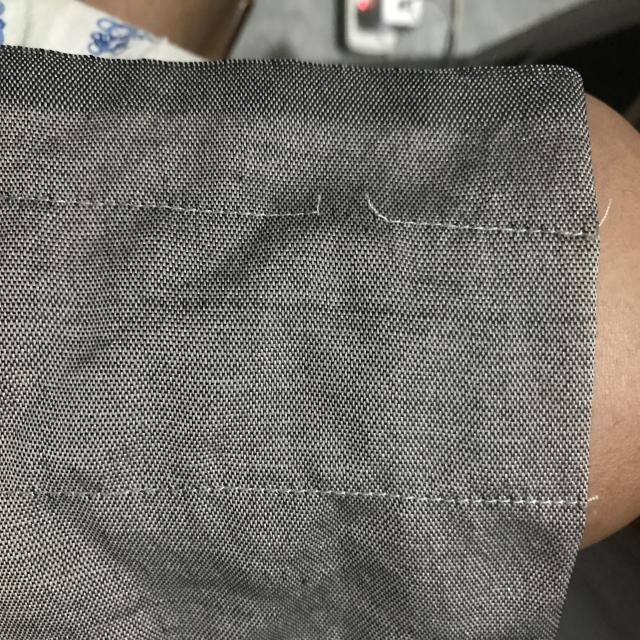broken: (298, 168, 402, 244)
good: (148, 196, 218, 229)
